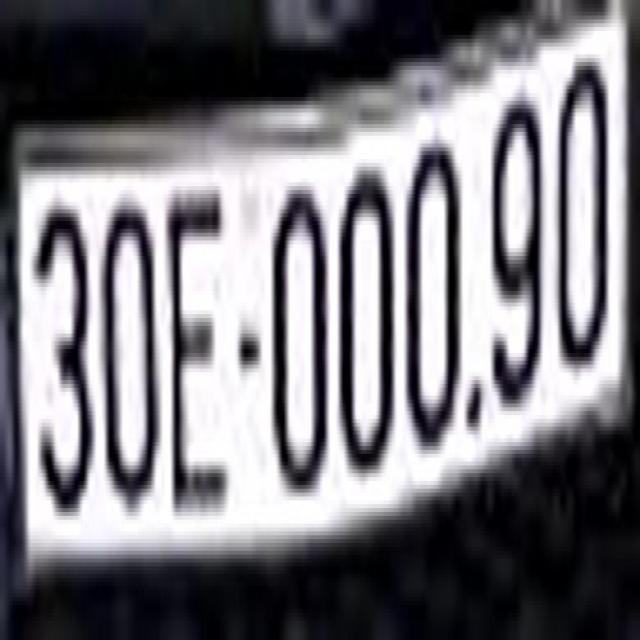0: (97, 186, 160, 528), (269, 171, 329, 504), (402, 132, 461, 465), (337, 155, 397, 481), (559, 43, 614, 376)
3: (32, 183, 92, 532)
9: (488, 101, 546, 419)
E: (167, 175, 230, 528)
